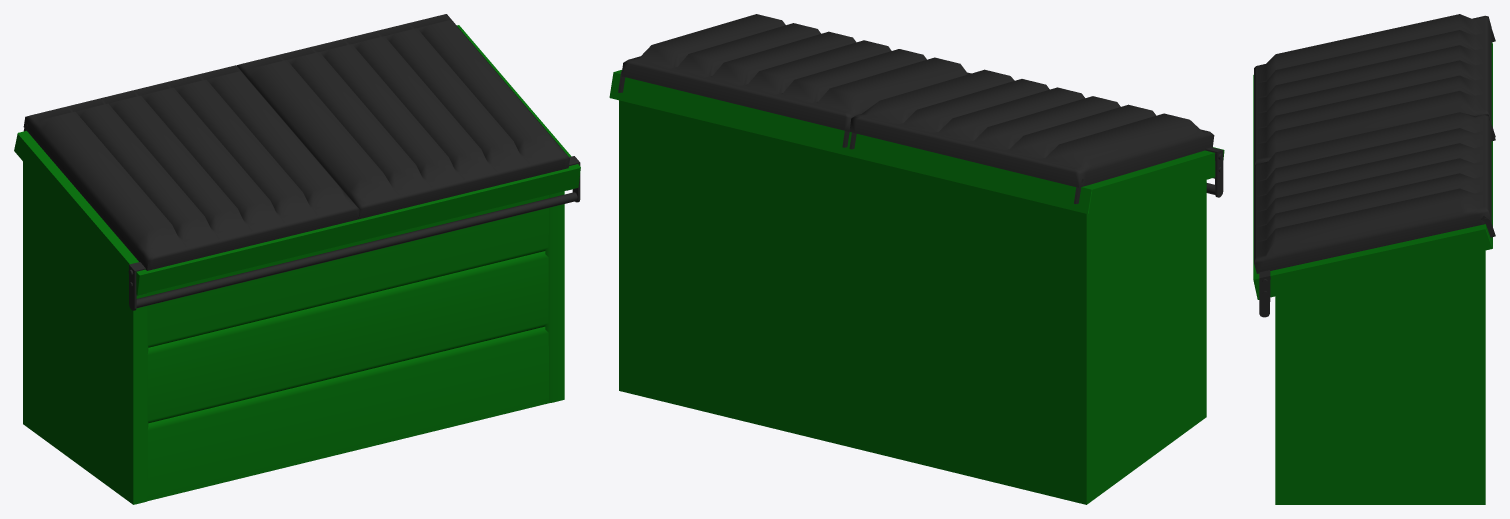
File: Trash_1.fbx
The picture shows the model from 3 angles, left to right: view 1: azimuth 30°, elevation 25°; view 2: azimuth 150°, elevation 25°; view 3: azimuth 270°, elevation 25°; orthographic projection. The views are drawn at different scales.
Parts seen in each view (by area): view 1: Trash_A; view 2: Trash_A; view 3: Trash_A.
Boxes of the visible parts, left/top/right/bottom form: Trash_A: left=14, top=14, right=580, bottom=504; Trash_A: left=609, top=14, right=1224, bottom=504; Trash_A: left=1253, top=14, right=1495, bottom=504.
Bounding box in the file's own units: 35.94 × 24.01 × 17.68.
